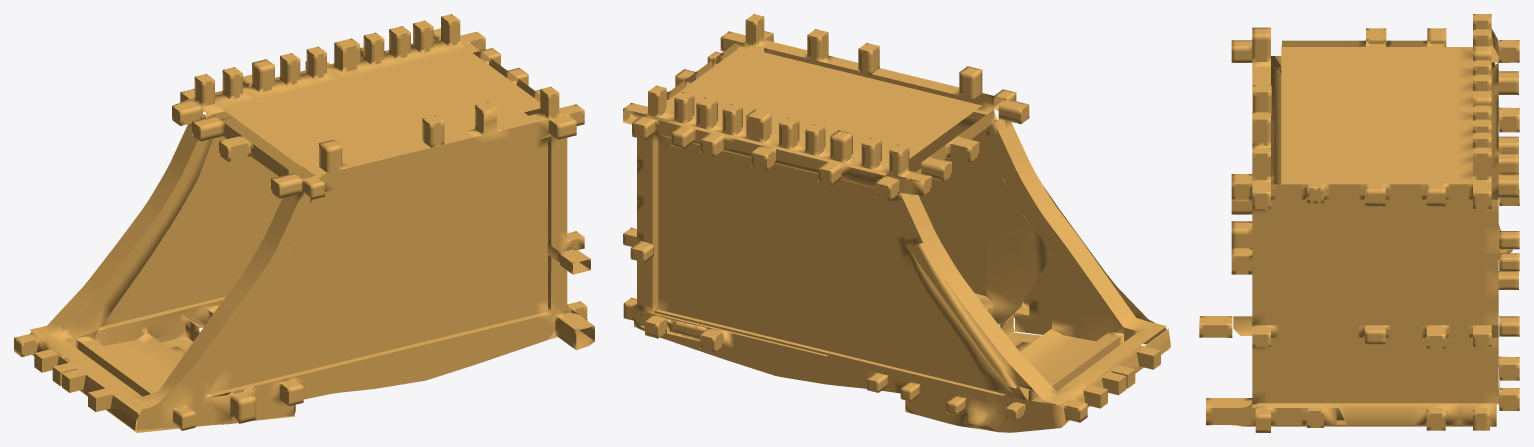
Rendered from buildings_2.fbx.
3 renders of one model, left to right at view 1: azimuth 30°, elevation 25°; view 2: azimuth 150°, elevation 25°; view 3: azimuth 270°, elevation 25°, orthographic. The views are drawn at different scales.
Visible parts, largest first — view 1: Retopo_Adobe_Express_file_Three_dimensional_model_of_a__11b7 (×5); view 2: Retopo_Adobe_Express_file_Three_dimensional_model_of_a__11b7 (×5); view 3: Retopo_Adobe_Express_file_Three_dimensional_model_of_a__11b7 (×9).
Boxes of the visible parts, <box> form: Retopo_Adobe_Express_file_Three_dimensional_model_of_a__11b7 (×5): <box>14,14,594,432</box>; Retopo_Adobe_Express_file_Three_dimensional_model_of_a__11b7 (×5): <box>623,14,1170,432</box>; Retopo_Adobe_Express_file_Three_dimensional_model_of_a__11b7 (×9): <box>1199,14,1519,432</box>.
Bounding box in the file's own units: 3031 × 1613 × 1618.
